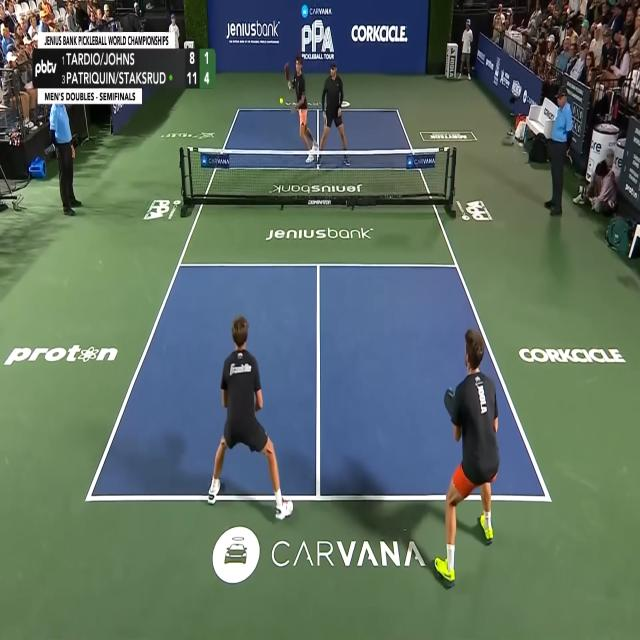ball: (279, 97, 283, 105)
